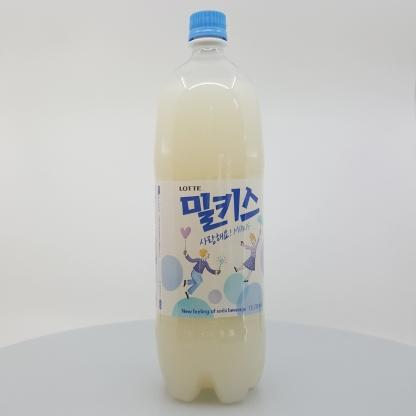-----1-5L: (153, 10, 266, 403)
